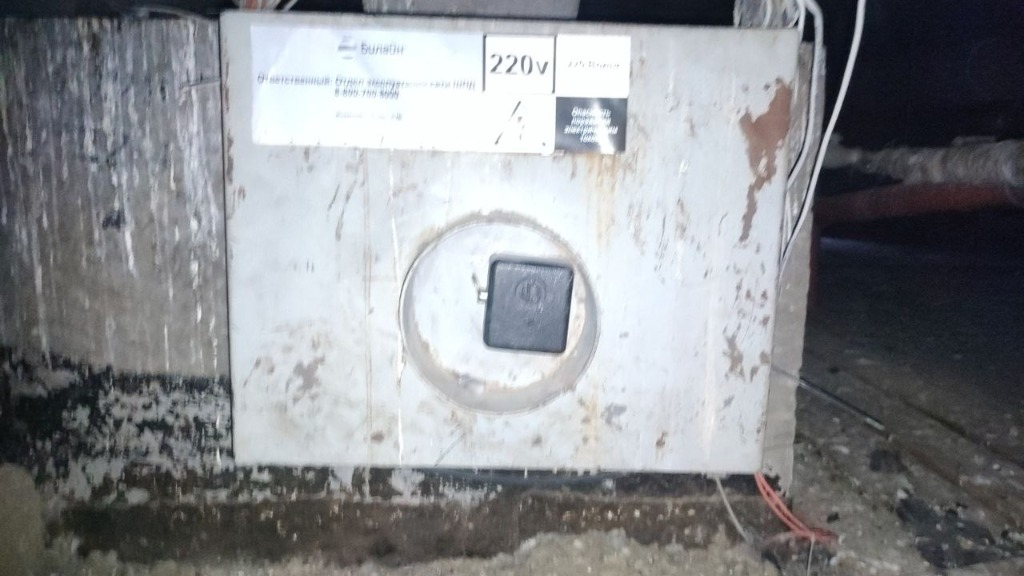shta-3: (215, 6, 805, 478)
